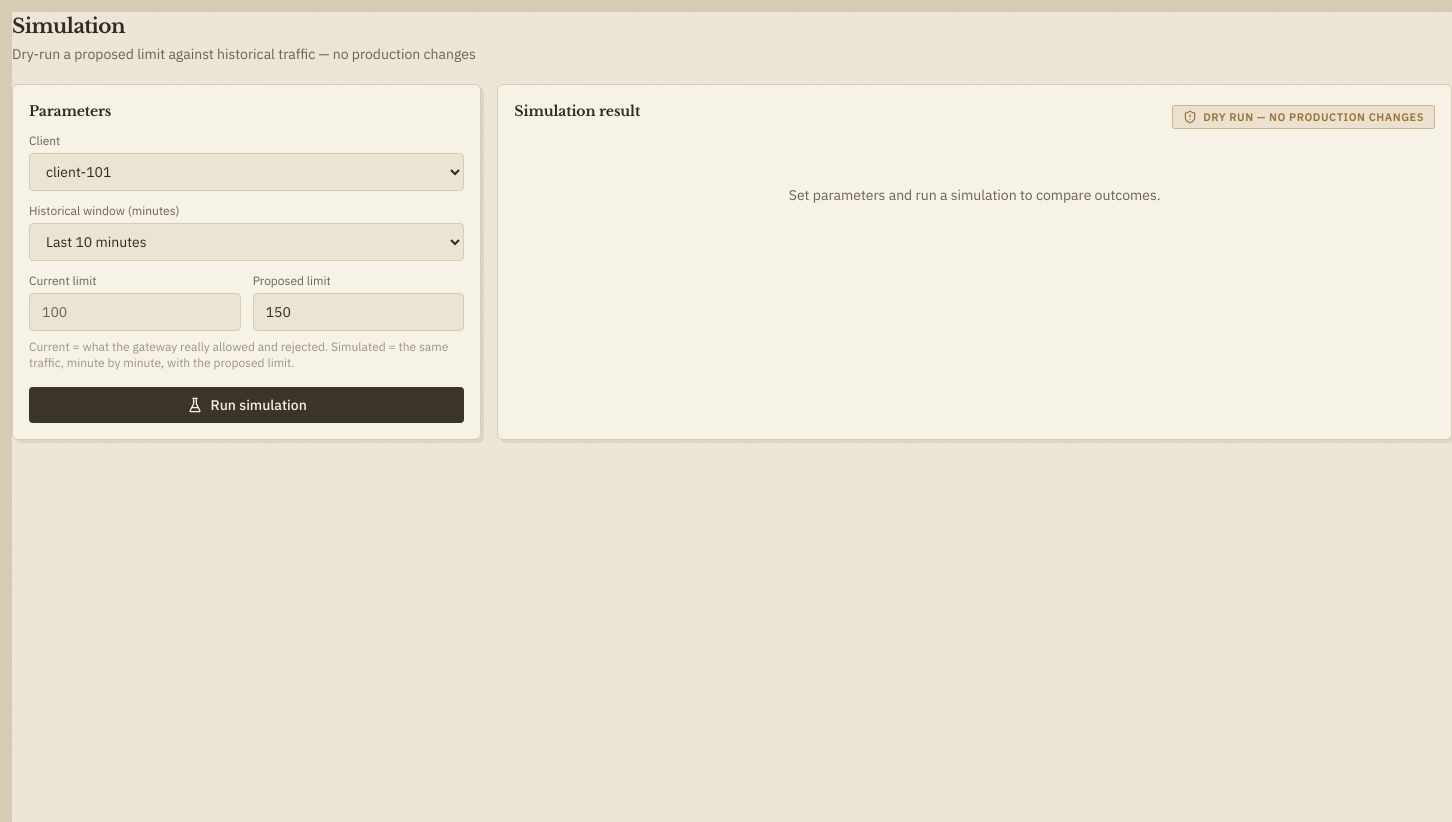
Simulation (dry run) › shows the dry-run indicator and produces a result
Expected: the text "Dry run — no production changes" is shown, [1172,105,1435,129]
Click the button "Run simulation" at coordinates (247, 405), box [29,387,464,423]
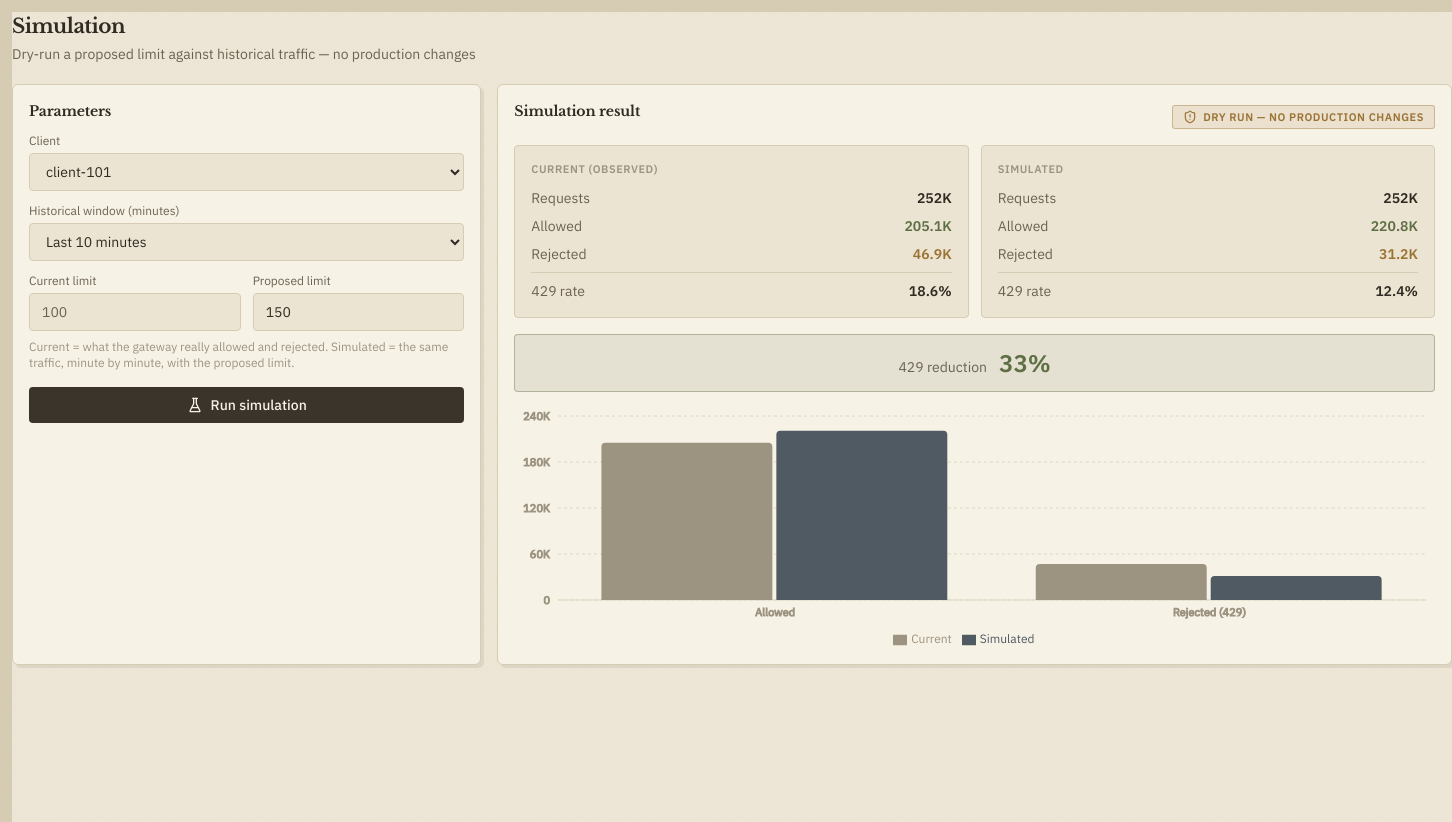
Result: the text "429 reduction" is shown at [898,358,987,376]
